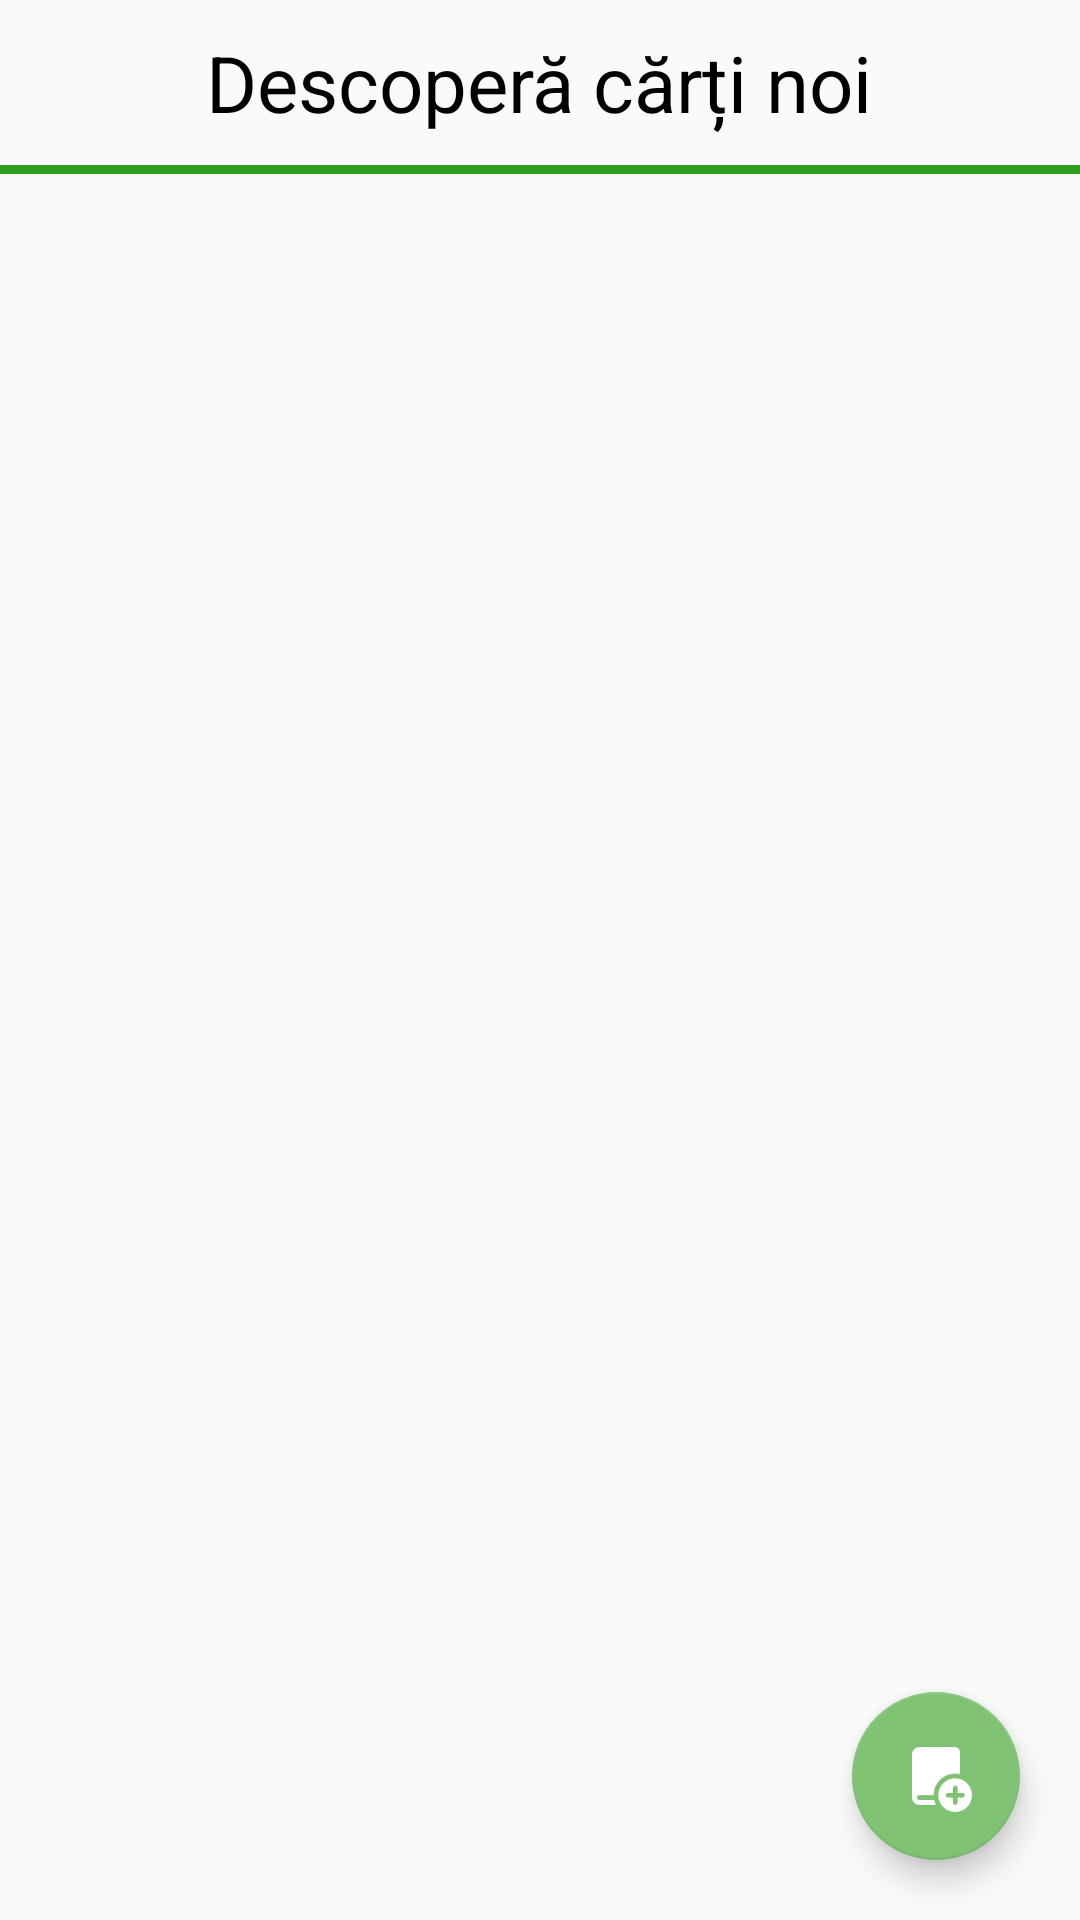

Named icons in this screenshot (1080px×1920px) and their centers, point (x, y):
fabicon: point (936, 1776)
